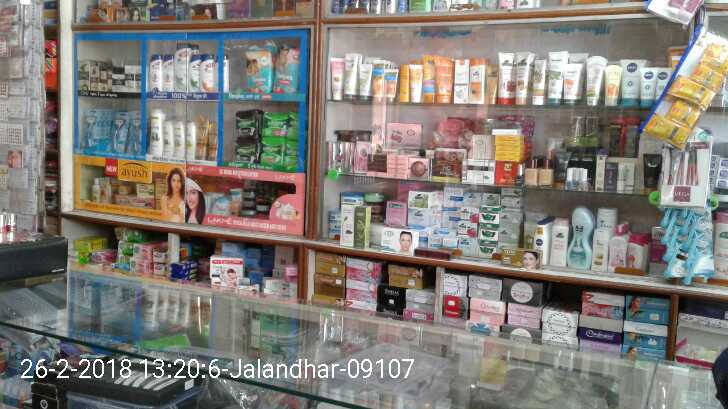venus: (658, 210, 713, 282), (106, 112, 130, 156), (84, 112, 106, 147), (130, 112, 143, 156)
